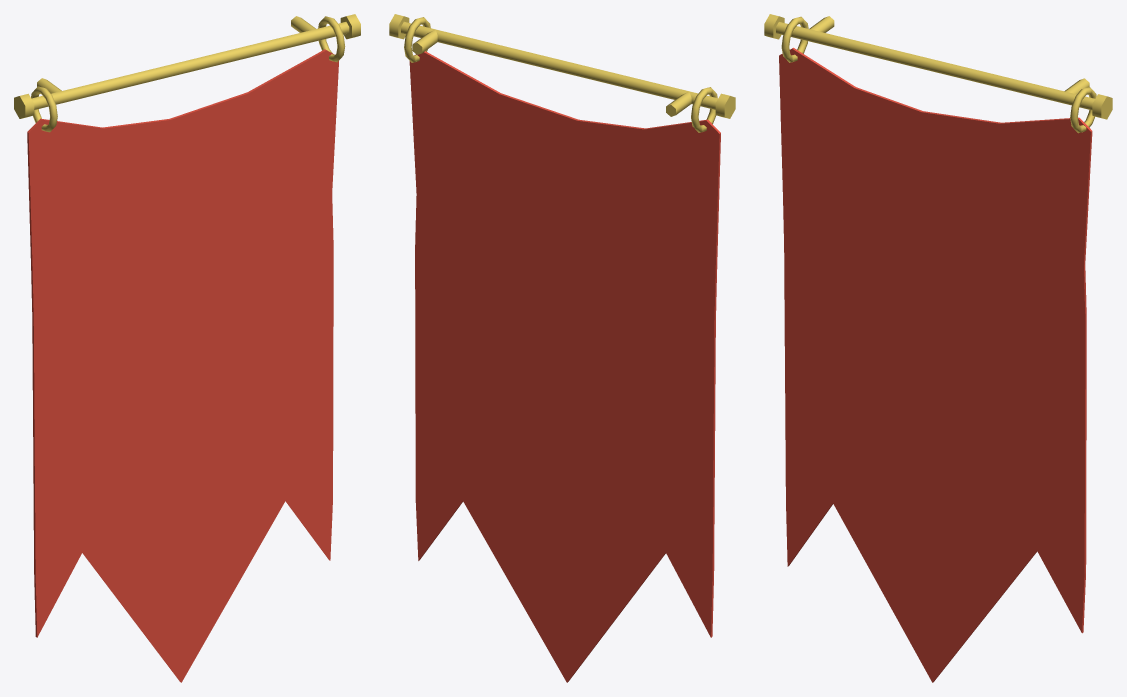
Rendered from Banner.fbx.
3 views of the same model, side by side, from view 1: azimuth 30°, elevation 25°; view 2: azimuth 150°, elevation 25°; view 3: azimuth 330°, elevation 25° (orthographic).
Parts seen in each view (by area): view 1: Banner; view 2: Banner; view 3: Banner.
Boxes of the visible parts, x1,y1,x2,y2 form: Banner: [14, 14, 360, 682]; Banner: [389, 14, 735, 682]; Banner: [764, 14, 1112, 682].
Size of the model in its own units: 211 by 378 by 32.44.
